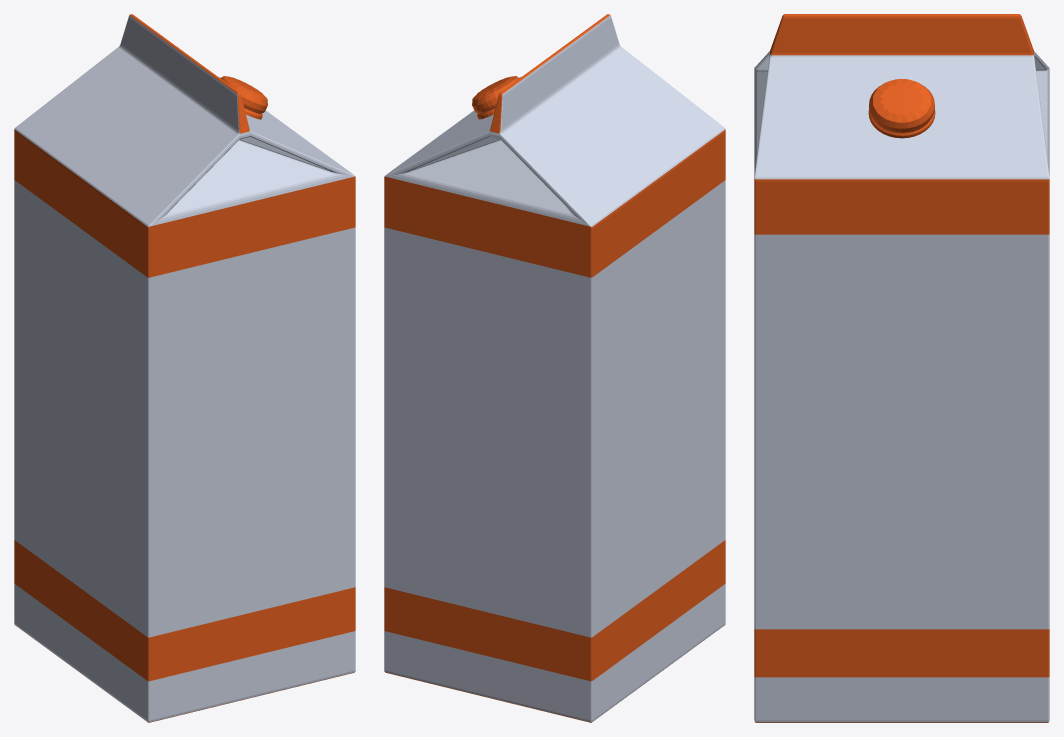
The model's file is MilkPack_Orange.fbx.
3 views of the same model, side by side, from view 1: azimuth 30°, elevation 25°; view 2: azimuth 150°, elevation 25°; view 3: azimuth 270°, elevation 25° (orthographic). The views are drawn at different scales.
Parts seen in each view (by area): view 1: Carton, Dop; view 2: Carton, Dop; view 3: Carton, Dop.
Part boxes in pixels (x1=…): Carton: x1=14, y1=14, x2=355, y2=722; Dop: x1=220, y1=76, x2=267, y2=119; Carton: x1=384, y1=14, x2=725, y2=722; Dop: x1=472, y1=76, x2=519, y2=119; Carton: x1=754, y1=14, x2=1049, y2=722; Dop: x1=868, y1=79, x2=935, y2=138.
Size of the model in its own units: 112 by 307 by 126.
